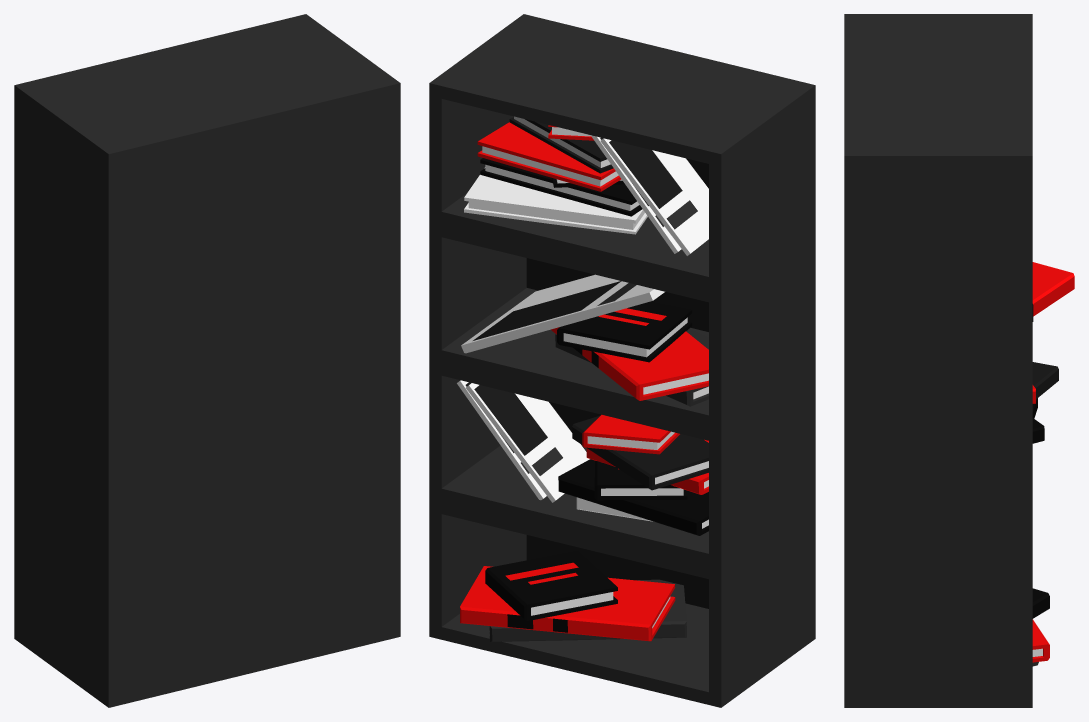
Rendered from BookCase.FBX.
The picture shows the model from 3 angles, left to right: view 1: azimuth 30°, elevation 25°; view 2: azimuth 150°, elevation 25°; view 3: azimuth 270°, elevation 25°; orthographic projection.
Parts seen in each view (by area): view 1: Box046; view 2: Box046; view 3: Box046.
Boxes of the visible parts, box(x1,y1,x2,y2) form: Box046: box(14, 14, 400, 707); Box046: box(429, 14, 815, 707); Box046: box(844, 14, 1074, 707).
Size of the model in its own units: 99.64 by 181 by 68.33.
